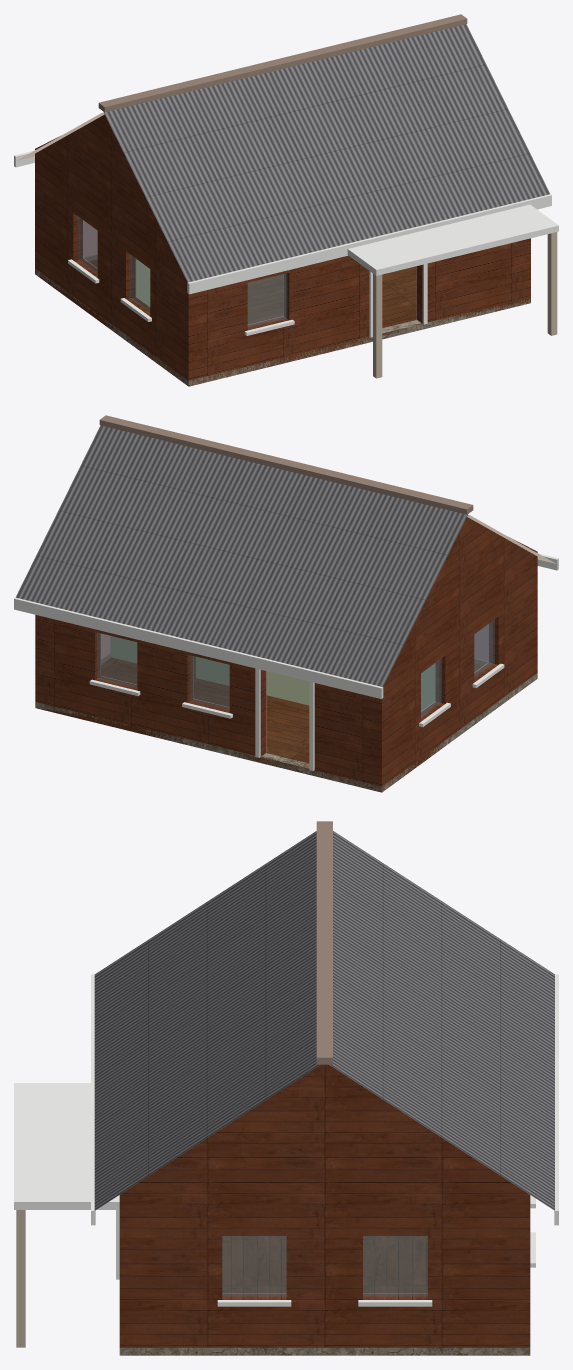
The model's file is cottage-wood.loc-v1.lod0.glb.
3 views of the same model, one above another, from view 1: azimuth 30°, elevation 25°; view 2: azimuth 150°, elevation 25°; view 3: azimuth 270°, elevation 25° (orthographic). The views are drawn at different scales.
Visible parts, largest first — view 1: cottage-wood; view 2: cottage-wood; view 3: cottage-wood.
Boxes of the visible parts, bbox=[...] form: cottage-wood: bbox=[14, 14, 558, 386]; cottage-wood: bbox=[14, 415, 558, 792]; cottage-wood: bbox=[14, 821, 558, 1355].
Bounding box in the file's own units: 9.54 × 5.73 × 9.29.
Materials: 5 (3 with a texture image).
